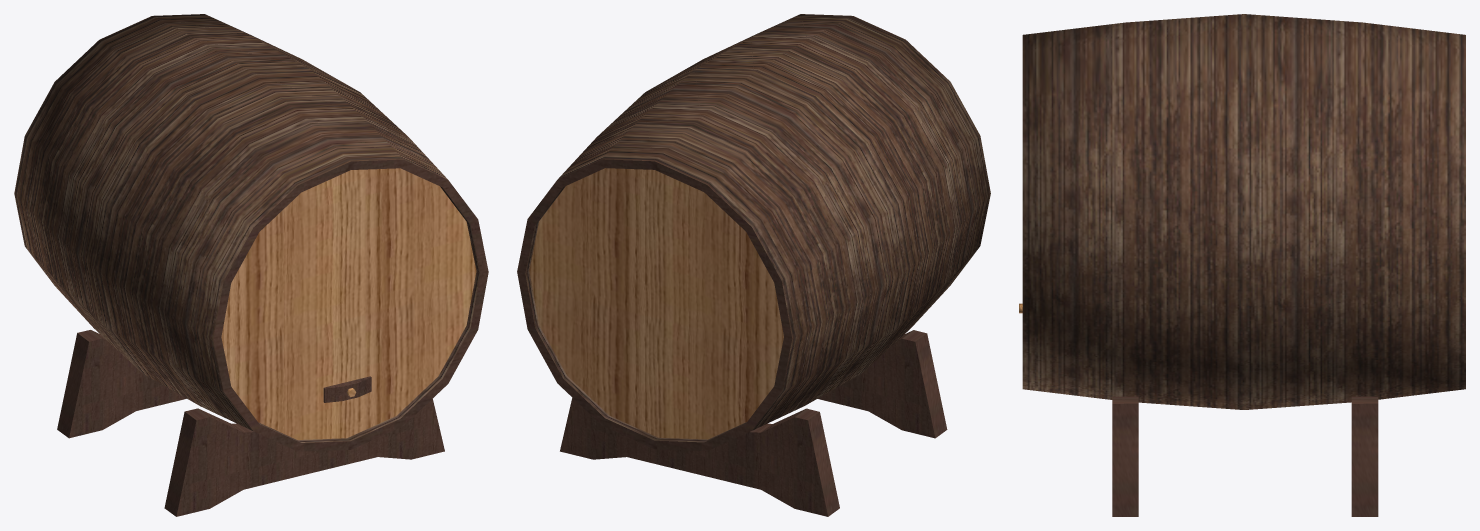
The model's file is bigwinebarrel.dae.
The picture shows the model from 3 angles, left to right: view 1: azimuth 30°, elevation 25°; view 2: azimuth 150°, elevation 25°; view 3: azimuth 270°, elevation 25°; orthographic projection. The views are drawn at different scales.
Visible parts, largest first — view 1: Circle; view 2: Circle; view 3: Circle.
Part boxes in pixels (<box>): Circle: <box>14,14,488,516</box>; Circle: <box>517,14,990,516</box>; Circle: <box>1019,14,1465,516</box>.
Bounding box in the file's own units: 4.47 × 5.04 × 5.12.
1 material, 1 textured.
